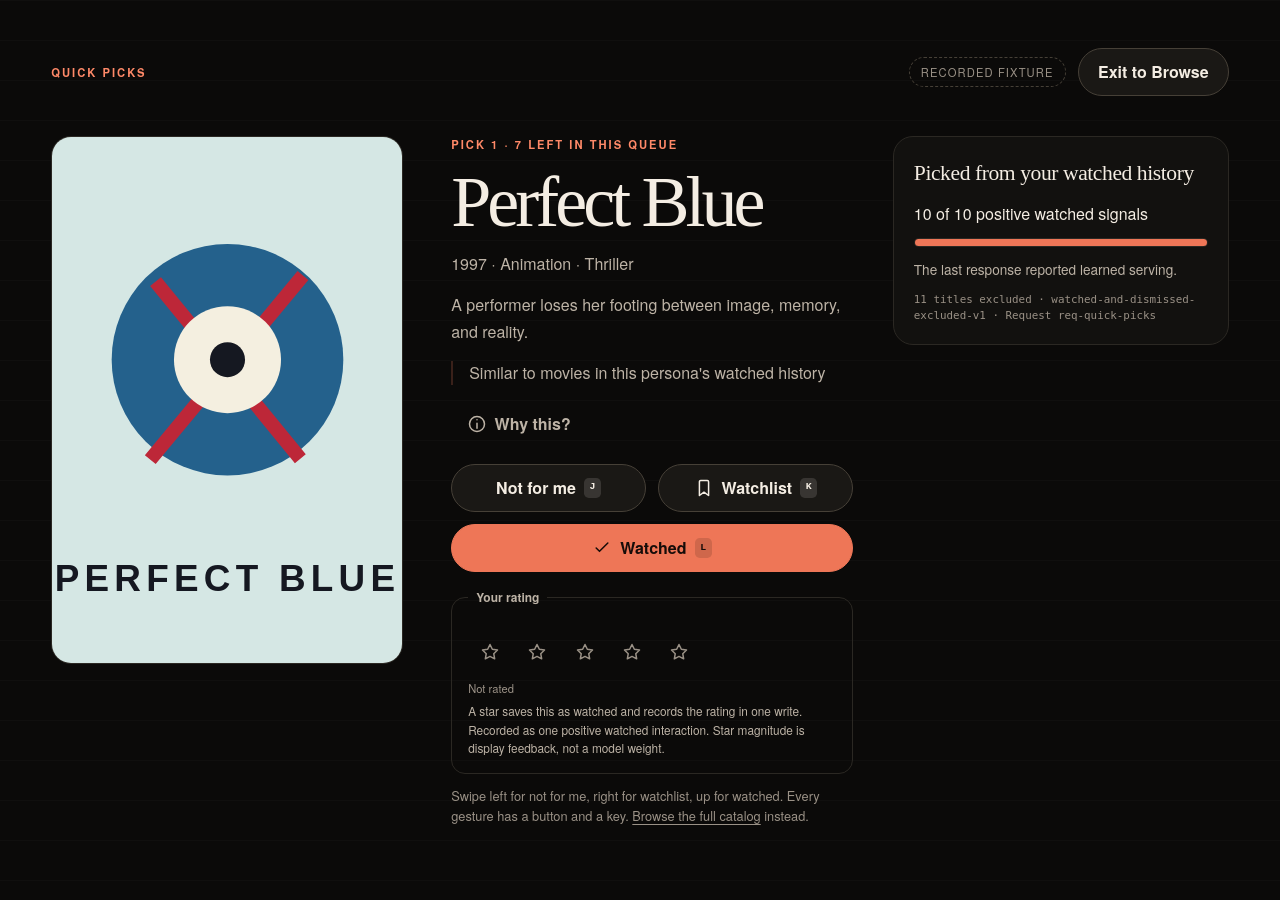
Test: why this? › names the seed title the audit recorded
Click the button "Why this?".
click(519, 424)  # box [451,401,586,448]
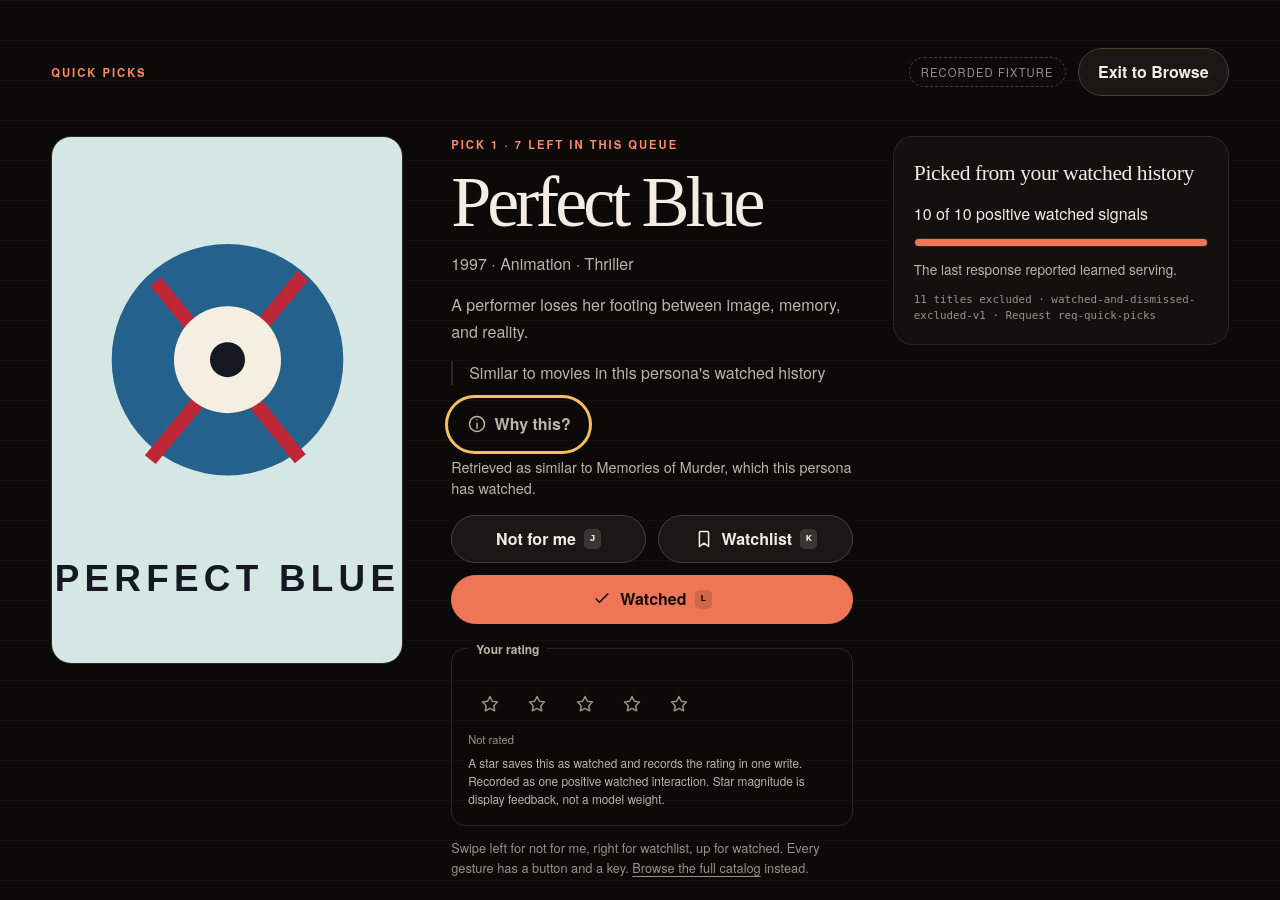
Result: the text "Retrieved as similar to Memories of Murder, which this persona has watched." is shown at [451,456,853,499]
